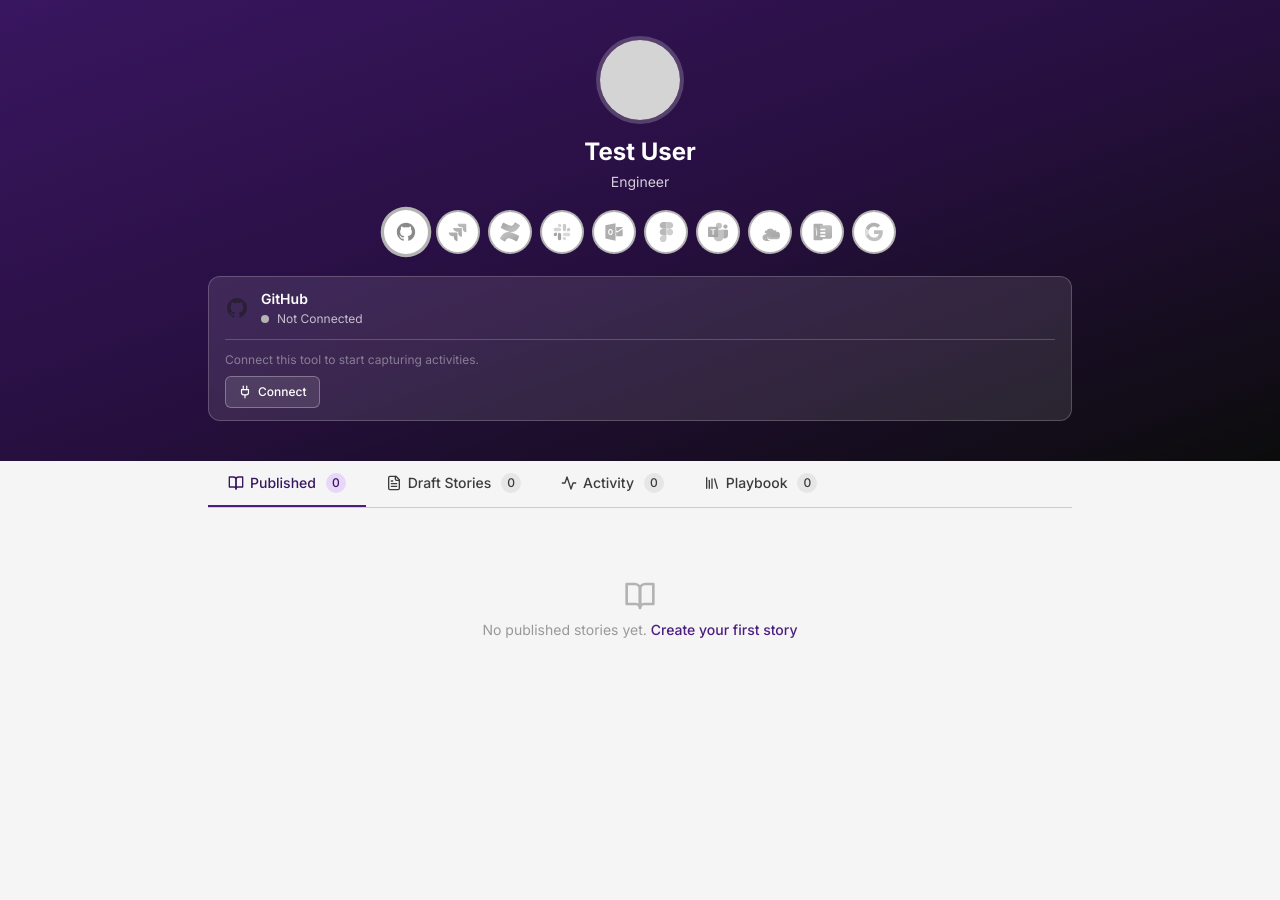
Test: ProfileViewPage — Tabs › switches between tabs
Check: the text "No published stories yet. Create your first story" is shown, box [482,621,798,638]
Note: Switch to Draft Stories
Click the button "Draft Stories 0".
click(453, 484)  # box [366,461,541,507]
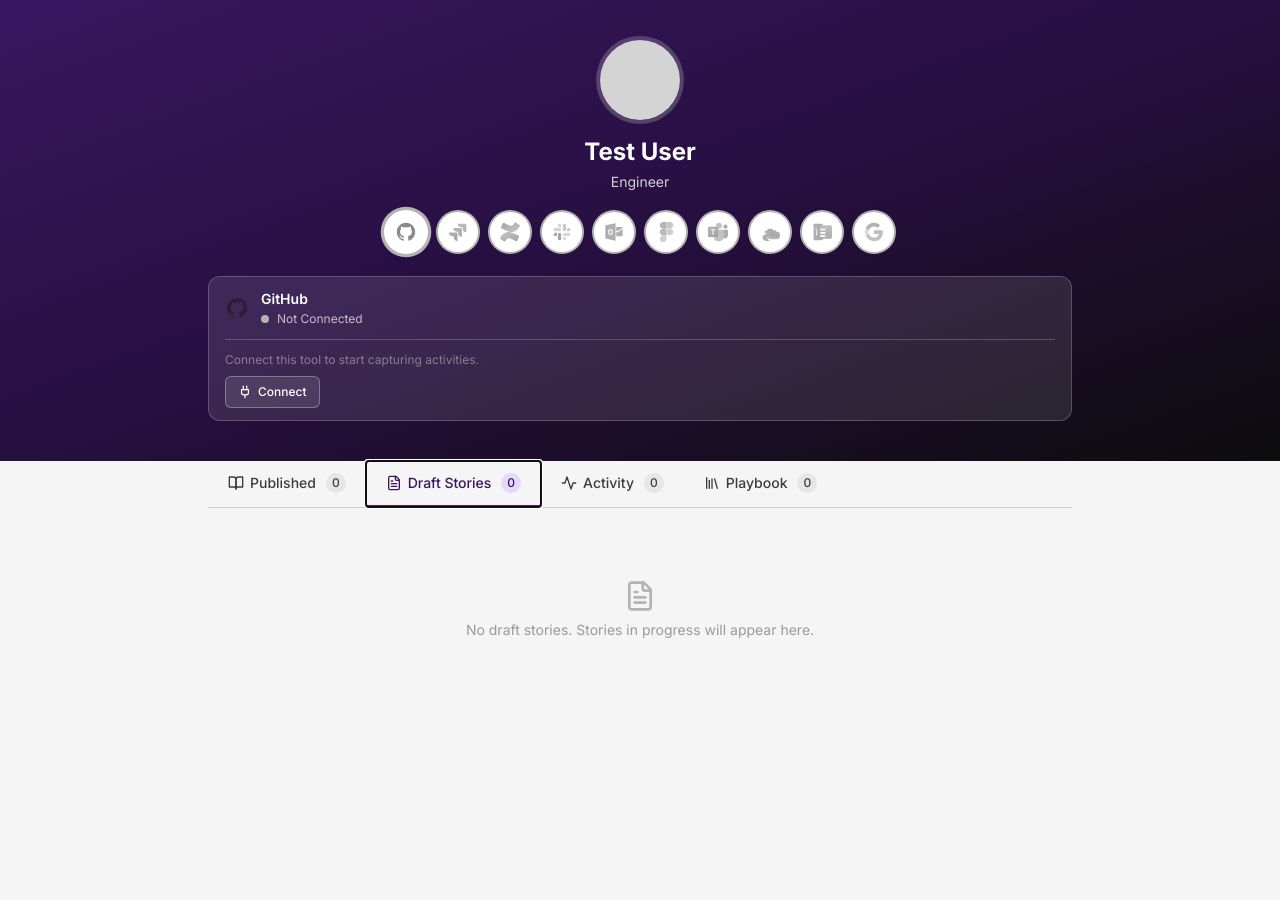
Check: the text "No draft stories. Stories in progress will appear here." is shown, box [466,621,814,638]
Note: Switch back to Published
Click the button "Published 0".
click(287, 484)  # box [208,461,366,507]
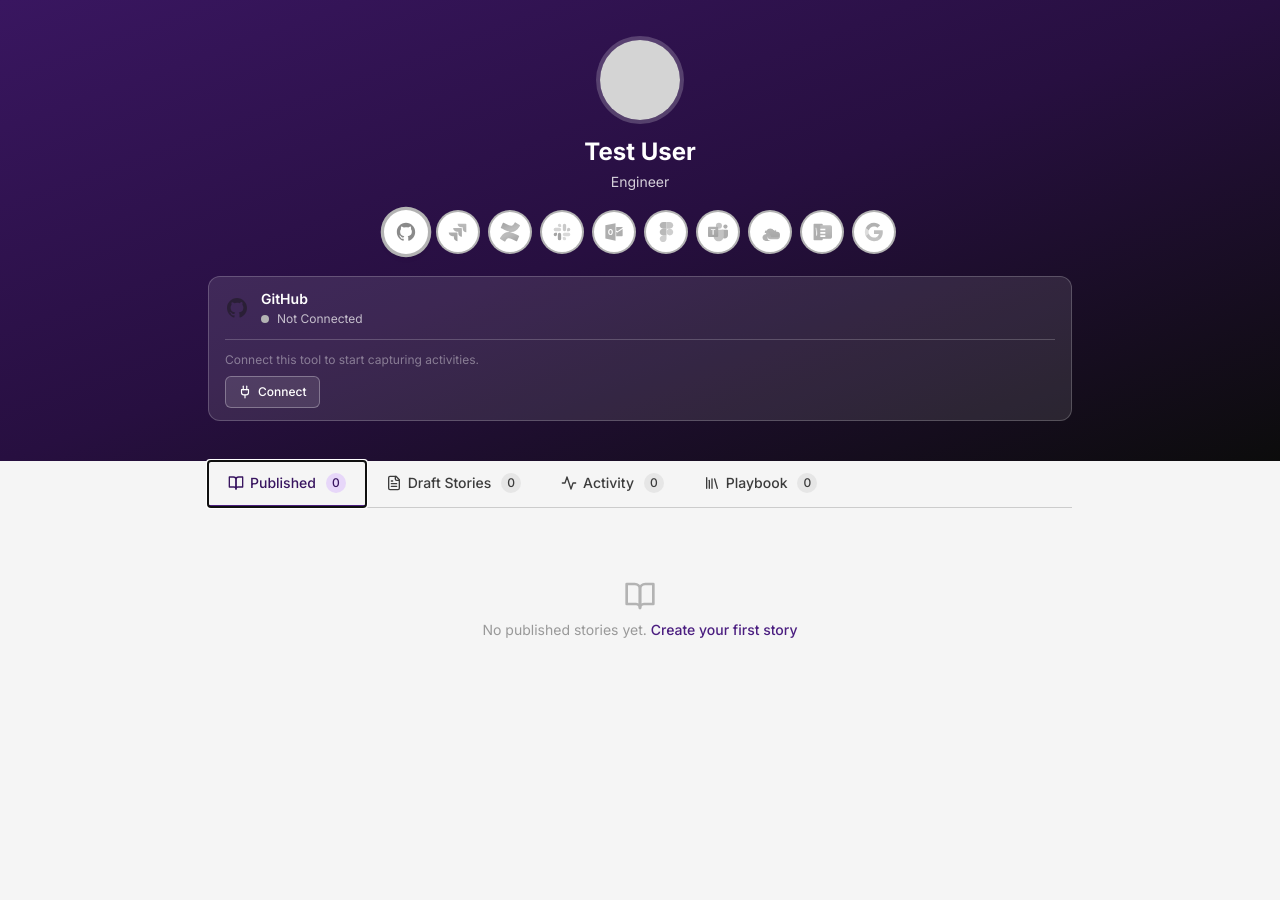
Check: the text "No published stories yet. Create your first story" is shown, box [482,621,798,638]
